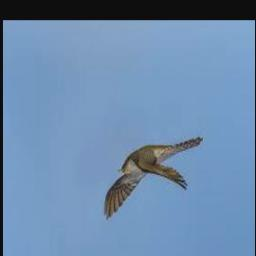Cuckoo: (104, 138, 204, 219)
